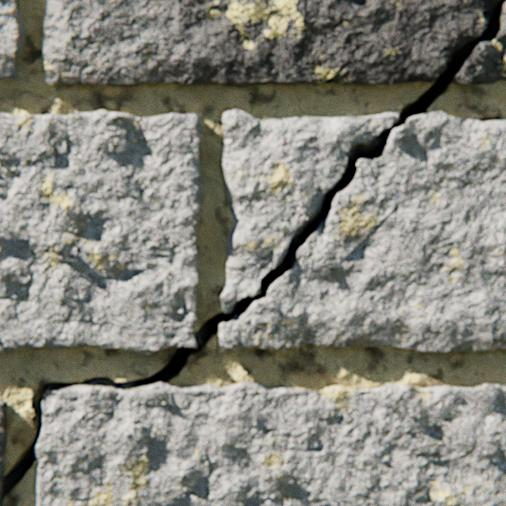brick: (37, 381, 505, 505), (0, 110, 203, 354), (0, 0, 26, 81), (0, 398, 8, 505)
broken_brick: (220, 112, 505, 351), (45, 0, 505, 87), (221, 110, 399, 311)
crack: (2, 2, 503, 505)
